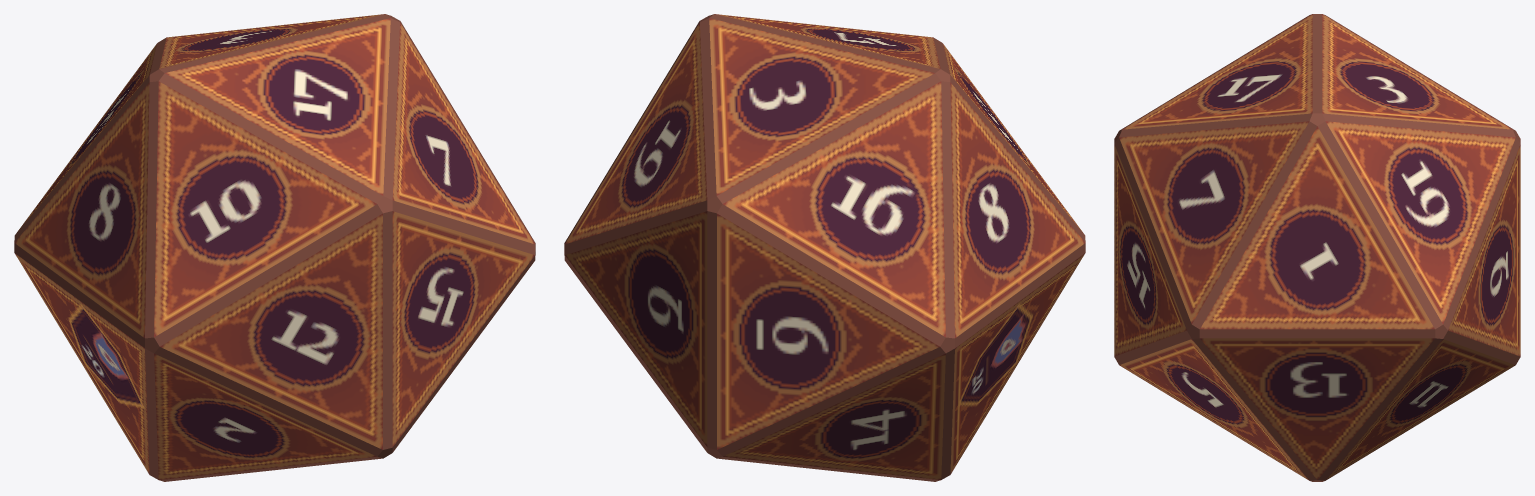
The picture shows the model from 3 angles, left to right: view 1: azimuth 30°, elevation 25°; view 2: azimuth 150°, elevation 25°; view 3: azimuth 270°, elevation 25°; orthographic projection. The views are drawn at different scales.
Size of the model in its own units: 160 by 160 by 160.
1 material, 1 textured.
